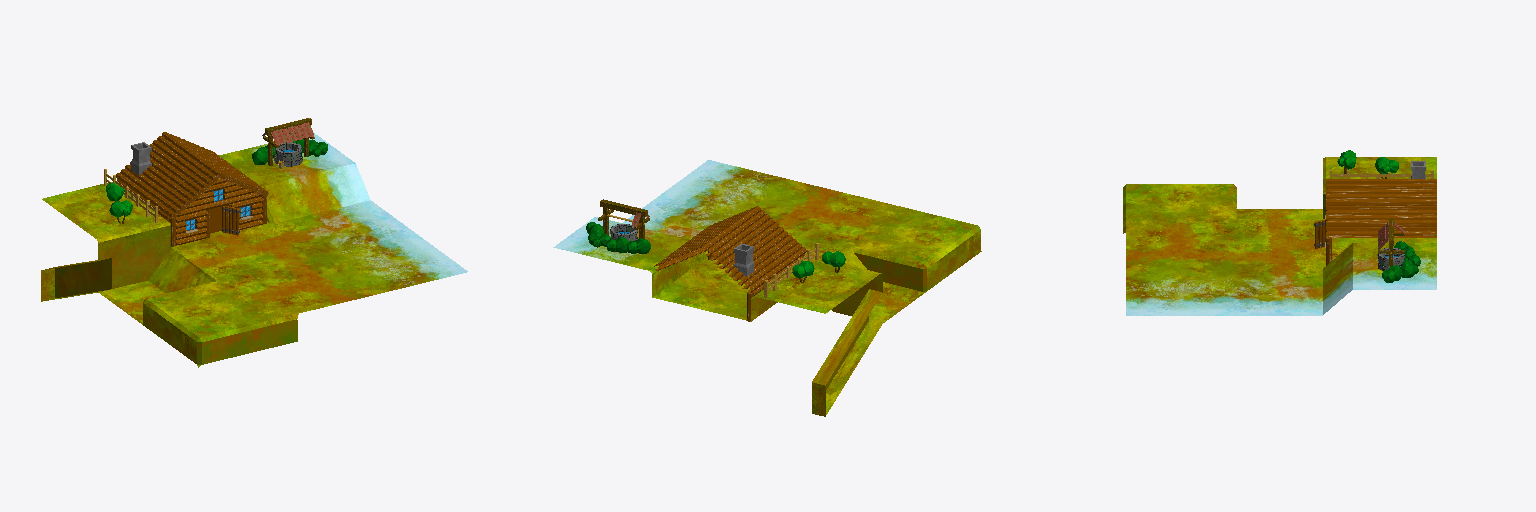
3 renders of one model, left to right at view 1: azimuth 30°, elevation 25°; view 2: azimuth 150°, elevation 25°; view 3: azimuth 270°, elevation 25°, orthographic.
Visible parts, largest first — view 1: chunk_2.001, techo_izquierda.003, pared_abajo.003, techo_derecha.002, Cylinder.009, Cube.106; view 2: chunk_2.001, techo_izquierda.003, techo_derecha.002, Cube.106, Cube.105; view 3: chunk_2.001, techo_derecha.002, techo_izquierda.003.
Part boxes in pixels (x1,y1,x2,y2): chunk_2.001: (41, 132, 467, 367); techo_izquierda.003: (116, 132, 222, 218); pared_abajo.003: (176, 178, 262, 245); techo_derecha.002: (170, 134, 268, 196); Cylinder.009: (274, 142, 302, 166); Cube.106: (263, 118, 314, 165); chunk_2.001: (553, 160, 981, 416); techo_izquierda.003: (700, 206, 806, 292); techo_derecha.002: (654, 208, 752, 270); Cube.106: (598, 199, 649, 238); Cube.105: (734, 243, 753, 276); chunk_2.001: (1123, 157, 1436, 315); techo_derecha.002: (1326, 185, 1436, 237); techo_izquierda.003: (1326, 179, 1436, 184).
Bounding box in the file's own units: 99 × 48.74 × 99.05.
Materials: 5 (4 with a texture image).